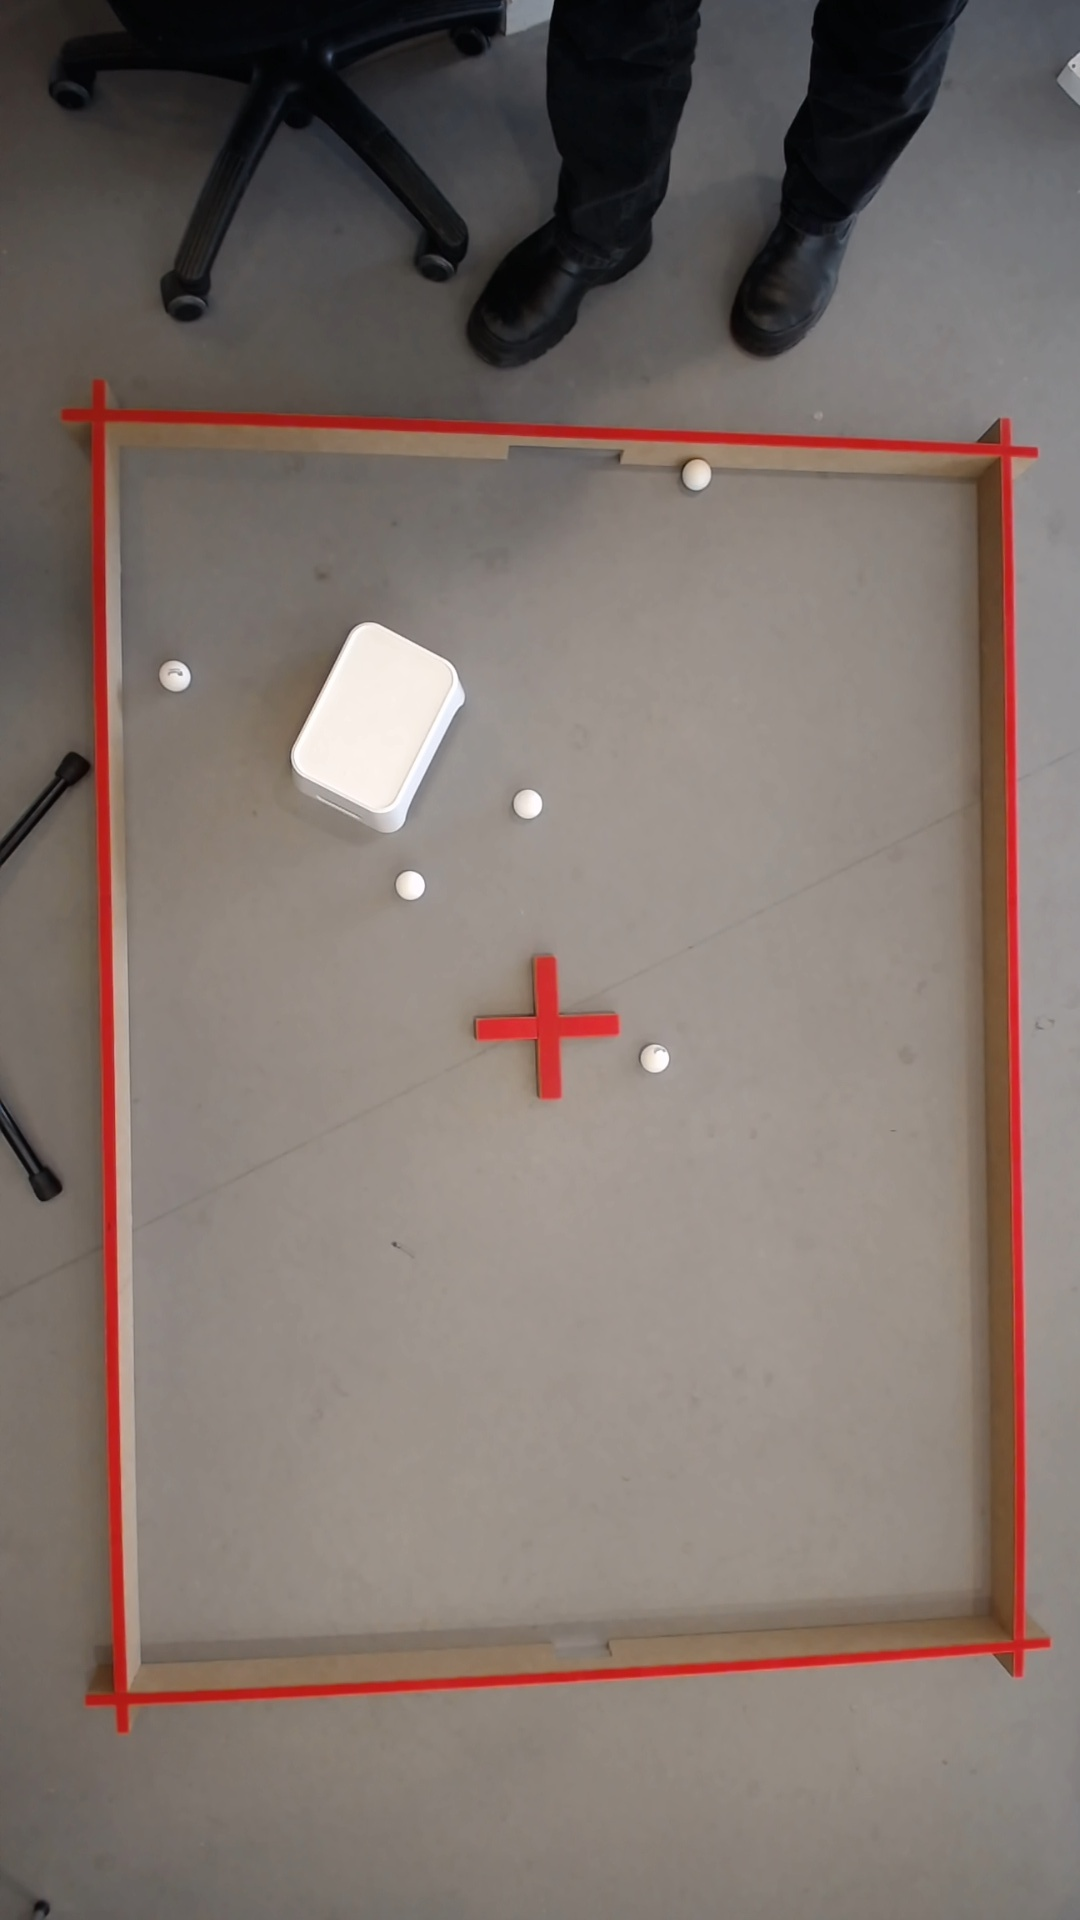balls: (280, 613, 477, 829), (393, 866, 429, 903), (512, 785, 546, 822), (160, 658, 194, 694)
car: (680, 458, 716, 493)
